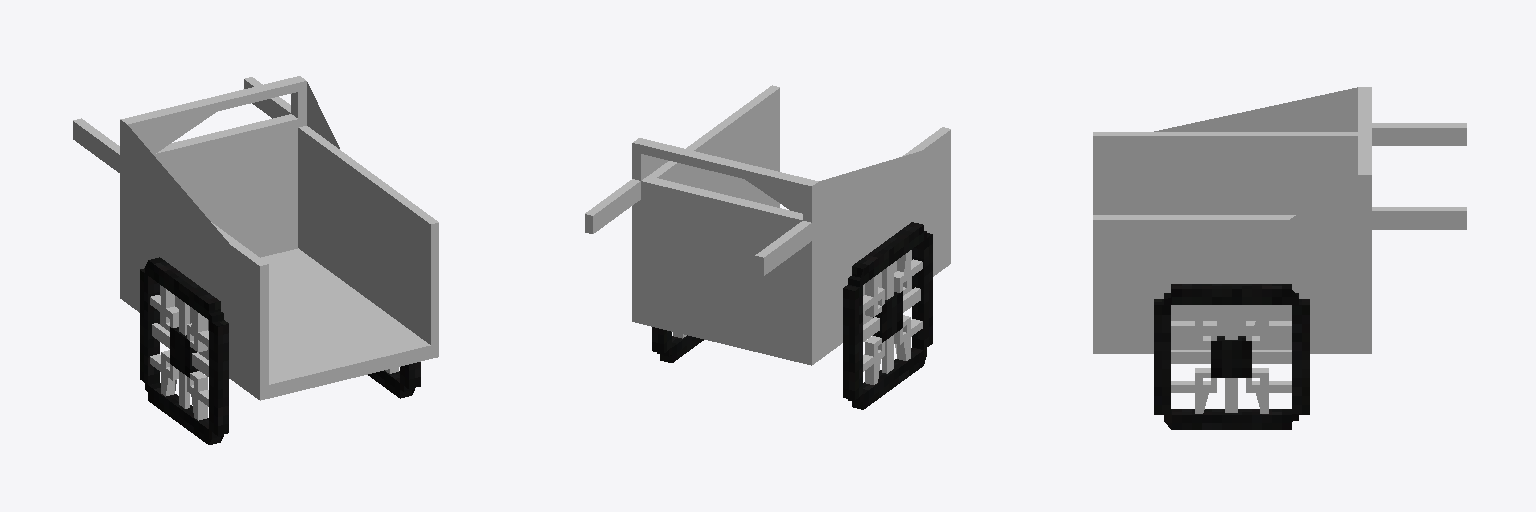
3 views of the same model, side by side, from view 1: azimuth 30°, elevation 25°; view 2: azimuth 150°, elevation 25°; view 3: azimuth 270°, elevation 25° (orthographic).
Visible parts, largest first — view 1: Cart, Wheal; view 2: Cart, Wheal; view 3: Cart, Wheal.
Boxes of the visible parts, <box> form: Cart: <box>73,76,438,400</box>; Wheal: <box>140,257,420,444</box>; Cart: <box>585,85,950,365</box>; Wheal: <box>652,222,932,409</box>; Cart: <box>1093,87,1466,353</box>; Wheal: <box>1154,284,1309,429</box>.
Bounding box in the file's own units: 1.38 × 1.63 × 2.21.
Materials: 2 (1 with a texture image).